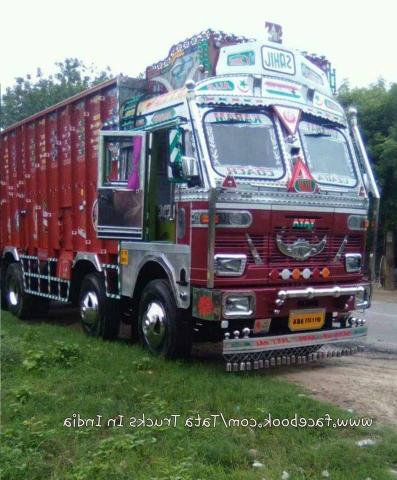truck: (0, 16, 383, 370)
